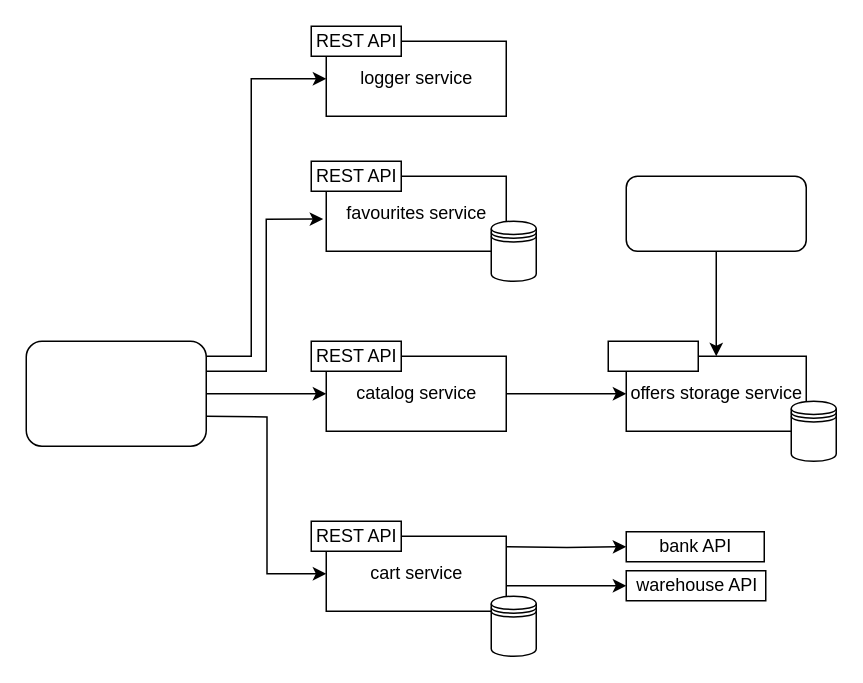
Some shapes in this 863 by 683 pixel diagram are drawn without their labels. Each missing label, with the centre of its shape:
"frontend" belongs at (115,393).
"gRPC" belongs at (652,355).
"storage updater UI" belongs at (715,213).
